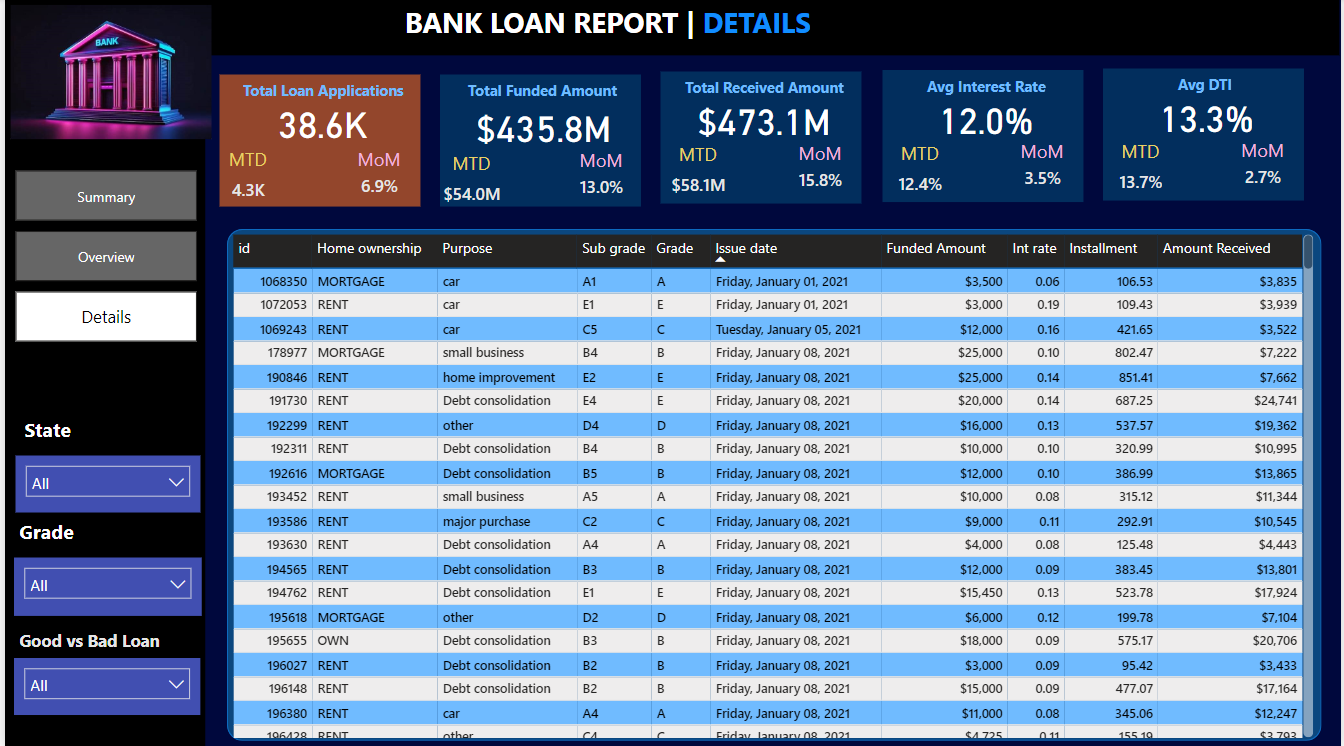

The page's visual inventory and layout, read from the dashboard file:
{"tool":"powerbi","page":{"name":"Details","canvas":[1280,720],"ordinal":2},"visuals":[{"type":"shape","box":[0,54.8,192,665.2],"z":0},{"type":"shape","box":[0,0,1279.4,55],"z":1000},{"type":"textbox","box":[378,0,455.4,51],"z":2000},{"type":"shape","box":[1053.1,68.1,192.8,126.6],"z":3000,"group":"g5"},{"type":"shape","box":[841.3,69.7,192.8,126.6],"z":3000,"group":"g4"},{"type":"shape","box":[629.4,71.2,192.8,126.6],"z":3000,"group":"g3"},{"type":"shape","box":[416.3,72.7,192.8,126.6],"z":3000,"group":"g2"},{"type":"group","id":"g1","title":"Group 1","box":[179.5,73.7,249.5,130.7],"z":3000},{"type":"shape","box":[206,73.7,192.8,126.6],"z":3000,"group":"g1"},{"type":"group","id":"g2","title":"Group 1","box":[391,72.7,249.8,136.3],"z":4000},{"type":"textbox","box":[1041.7,68.1,219.2,39.7],"z":5000,"group":"g5"},{"type":"textbox","box":[829.9,69.7,219.2,39.7],"z":5000,"group":"g4"},{"type":"group","id":"g3","title":"Group 1","box":[602.9,71.2,249.8,130.2],"z":5000},{"type":"textbox","box":[618,71.2,219.2,39.7],"z":5000,"group":"g3"},{"type":"textbox","box":[405,72.7,219.2,39.7],"z":5000,"group":"g2"},{"type":"textbox","box":[194.6,73.7,219.2,39.7],"z":5000,"group":"g1"},{"type":"group","id":"g4","title":"Group 1","box":[814.8,69.7,249.8,130.2],"z":6000},{"type":"card","title":"MTD","fields":{"Values":["Bank_loan_data.MTD Avg DTI"]},"box":[1048.3,135.9,80.3,62.1],"z":6000,"group":"g5"},{"type":"card","title":"MTD","fields":{"Values":["Bank_loan_data.MTD Avg Interest Rate"]},"box":[836.5,137.5,80.3,62.1],"z":6000,"group":"g4"},{"type":"card","title":"MTD","fields":{"Values":["Bank_loan_data.MTD Total AMount Received"]},"box":[624.6,139,80.3,62.1],"z":6000,"group":"g3"},{"type":"card","title":"MTD","fields":{"Values":["Bank_loan_data.MTD Loan Applications"]},"box":[192.3,142.3,80.3,62.1],"z":6000,"group":"g1"},{"type":"card","title":"MTD","fields":{"Values":["Bank_loan_data.MTD Funded Amount"]},"box":[407.1,146.6,80.3,62.1],"z":6000,"group":"g2"},{"type":"group","id":"g5","title":"Group 1","box":[1026.6,68.1,249.8,130.2],"z":7000},{"type":"card","title":"MoM","fields":{"Values":["Bank_loan_data.MoM Avg DTI"]},"box":[1166.4,134.4,78.7,54.5],"z":7000,"group":"g5"},{"type":"card","title":"MoM","fields":{"Values":["Bank_loan_data.MoM Avg Interest Rate"]},"box":[954.6,136,78.7,54.5],"z":7000,"group":"g4"},{"type":"card","title":"MoM","fields":{"Values":["Bank_loan_data.MoM Total Amount Received"]},"box":[742.7,137.5,78.7,54.5],"z":7000,"group":"g3"},{"type":"card","title":"MoM","fields":{"Values":["Bank_loan_data.MoM Loan Applications"]},"box":[319.5,142.3,78.7,54.5],"z":7000,"group":"g1"},{"type":"card","title":"MoM","fields":{"Values":["Bank_loan_data.MoM Total FUnded Amount"]},"box":[531.2,143.6,78.7,54.5],"z":7000,"group":"g2"},{"type":"shape","box":[212.6,221.9,1049.3,490.6],"z":7000,"group":"g6"},{"type":"group","id":"g6","title":"Group 2","box":[212.6,221.9,1049.3,492.1],"z":8000},{"type":"textbox","box":[9.1,395.2,122.7,43.9],"z":9000},{"type":"slicer","fields":{"Values":["Bank_loan_data.address_state"]},"box":[10.6,439.1,177.2,54.5],"z":10000},{"type":"card","fields":{"Values":["Bank_loan_data.Avg DTI"]},"box":[1026.6,88.9,249.5,51],"z":11000,"group":"g5"},{"type":"card","fields":{"Values":["Bank_loan_data.Average Interest rate"]},"box":[814.8,90.5,249.5,51],"z":11000,"group":"g4"},{"type":"card","fields":{"Values":["Bank_loan_data.Total AMount Received"]},"box":[602.9,92,249.5,51],"z":11000,"group":"g3"},{"type":"card","fields":{"Values":["Bank_loan_data.Total Loan Applications"]},"box":[179.5,94.5,249.5,51],"z":11000,"group":"g1"},{"type":"card","fields":{"Values":["Bank_loan_data.Total Funded Amount"]},"box":[391,96.6,249.8,50],"z":11000,"group":"g2"},{"type":"slicer","fields":{"Values":["Bank_loan_data.grade"]},"box":[9.1,536,180.2,56],"z":11000},{"type":"slicer","fields":{"Values":["Bank_loan_data.Good vs Bad Loan"]},"box":[9.1,632.9,178.7,54.5],"z":12000},{"type":"textbox","box":[9.1,493.6,166.6,42.4],"z":13000},{"type":"textbox","box":[9.1,599.6,166.6,43.9],"z":14000},{"type":"image","box":[0,0,202.9,142.3],"z":15000},{"type":"pageNavigator","box":[10.6,165,174.1,165],"z":16000},{"type":"tableEx","fields":{"Values":["Bank_loan_data.id","Bank_loan_data.home_ownership","Bank_loan_data.purpose","Bank_loan_data.sub_grade","Bank_loan_data.grade","Bank_loan_data.issue_date","Bank_loan_data.Total Funded Amount","Sum(Bank_loan_data.int_rate)","Sum(Bank_loan_data.installment)","Bank_loan_data.Total Amount Received"]},"box":[212.8,221.9,1046.3,492.1],"z":18001,"group":"g6"}]}

Visuals, with their boxes in screenshot pixels (x1, y1, x2, y2), scaled from the page's 1280x720 canvas onto the 1344x746 screenshot:
shape: [0,57,202,745]
shape: [0,0,1343,57]
textbox: [397,0,875,53]
shape: [1106,71,1308,202]
shape: [883,72,1086,203]
shape: [661,74,863,205]
shape: [437,75,640,206]
"Group 1" group: [188,76,450,212]
shape: [216,76,419,208]
"Group 1" group: [411,75,673,217]
textbox: [1094,71,1324,112]
textbox: [871,72,1102,113]
"Group 1" group: [633,74,895,209]
textbox: [649,74,879,115]
textbox: [425,75,655,116]
textbox: [204,76,434,117]
"Group 1" group: [856,72,1118,207]
"MTD" card: [1101,141,1185,205]
"MTD" card: [878,142,963,207]
"MTD" card: [656,144,740,208]
"MTD" card: [202,147,286,212]
"MTD" card: [427,152,512,216]
"Group 1" group: [1078,71,1340,205]
"MoM" card: [1225,139,1307,196]
"MoM" card: [1002,141,1085,197]
"MoM" card: [780,142,862,199]
"MoM" card: [335,147,418,204]
"MoM" card: [558,149,640,205]
shape: [223,230,1325,738]
"Group 2" group: [223,230,1325,740]
textbox: [10,409,138,455]
slicer - Bank_loan_data.address_state: [11,455,197,511]
card - Bank_loan_data.Avg DTI: [1078,92,1340,145]
card - Bank_loan_data.Average Interest rate: [856,94,1118,147]
card - Bank_loan_data.Total AMount Received: [633,95,895,148]
card - Bank_loan_data.Total Loan Applications: [188,98,450,151]
card - Bank_loan_data.Total Funded Amount: [411,100,673,152]
slicer - Bank_loan_data.grade: [10,555,199,613]
slicer - Bank_loan_data.Good vs Bad Loan: [10,656,197,712]
textbox: [10,511,184,555]
textbox: [10,621,184,667]
image: [0,0,213,147]
pageNavigator: [11,171,194,342]
tableEx - Bank_loan_data.id x Bank_loan_data.home_ownership: [223,230,1322,740]
